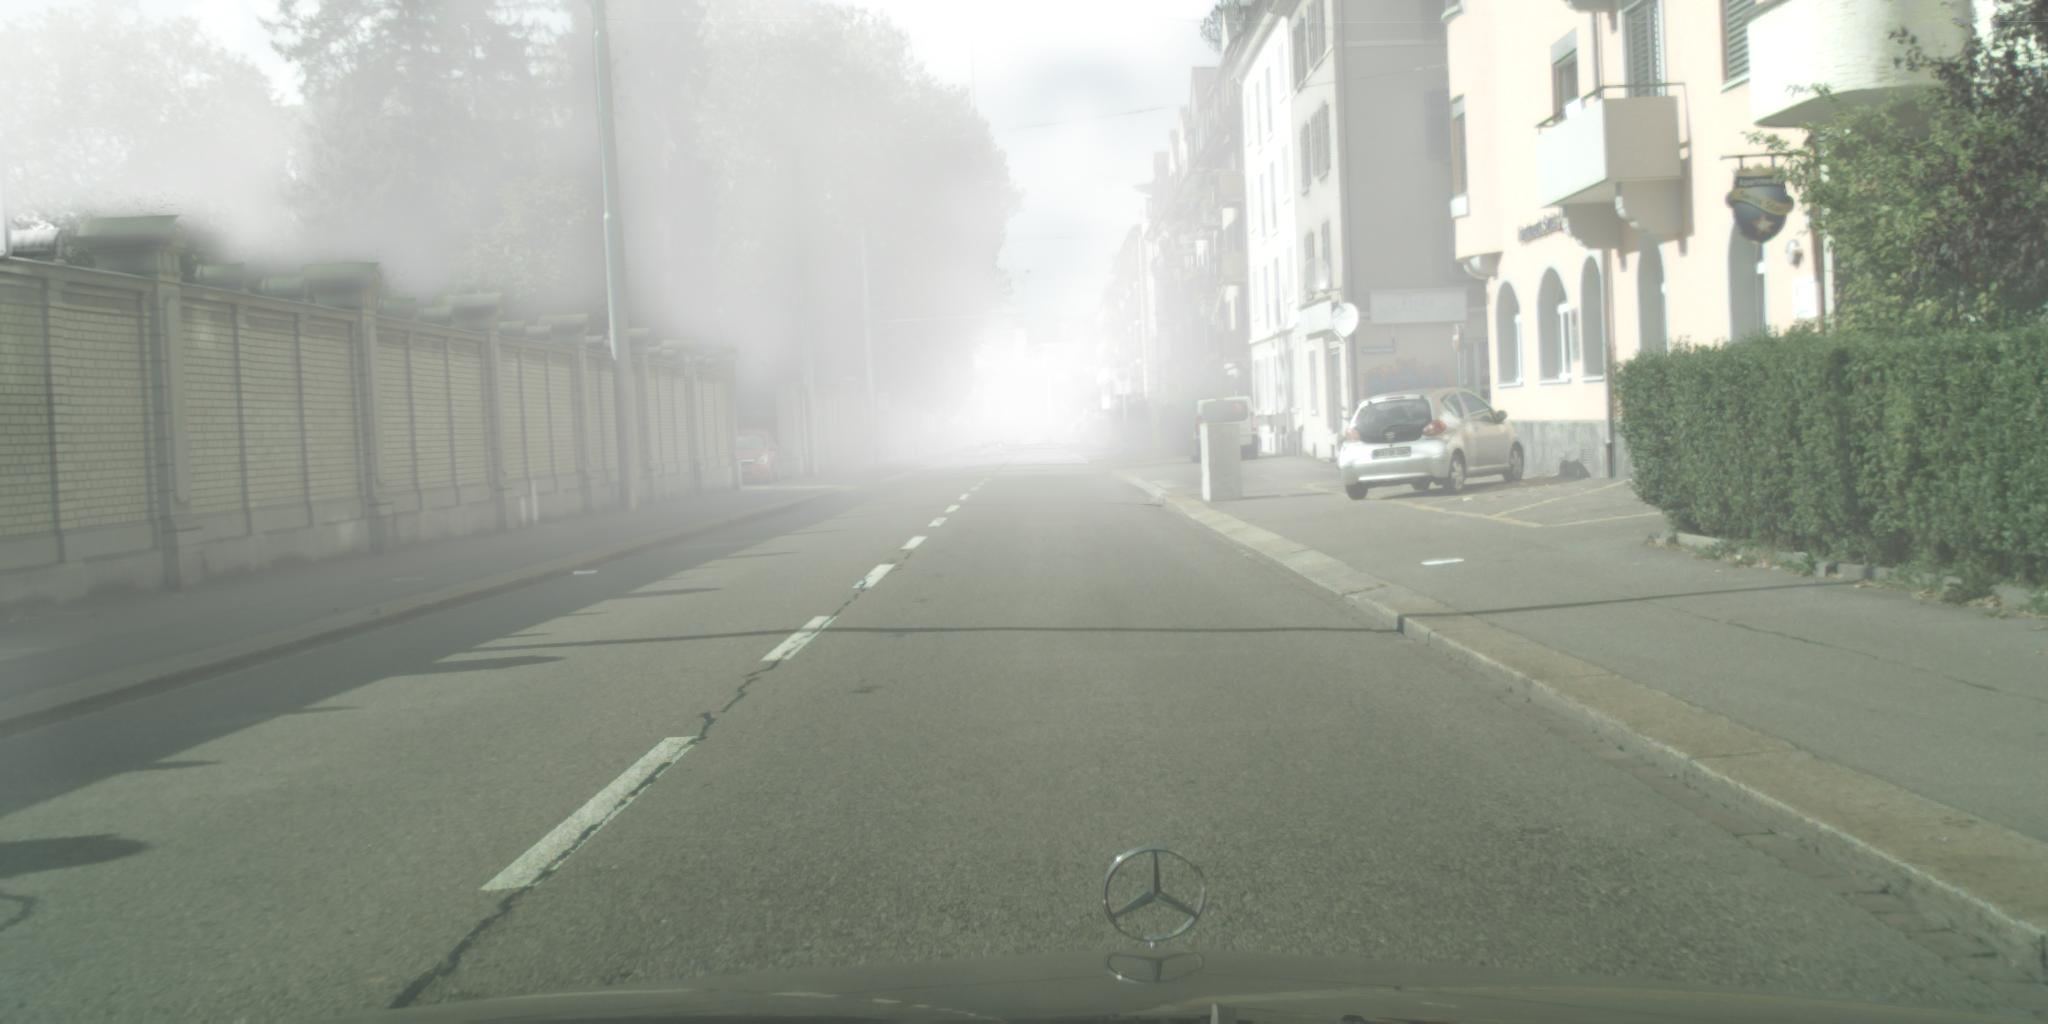car: (1339, 389, 1526, 503), (1189, 394, 1260, 465), (718, 428, 784, 487), (977, 435, 1008, 455)
